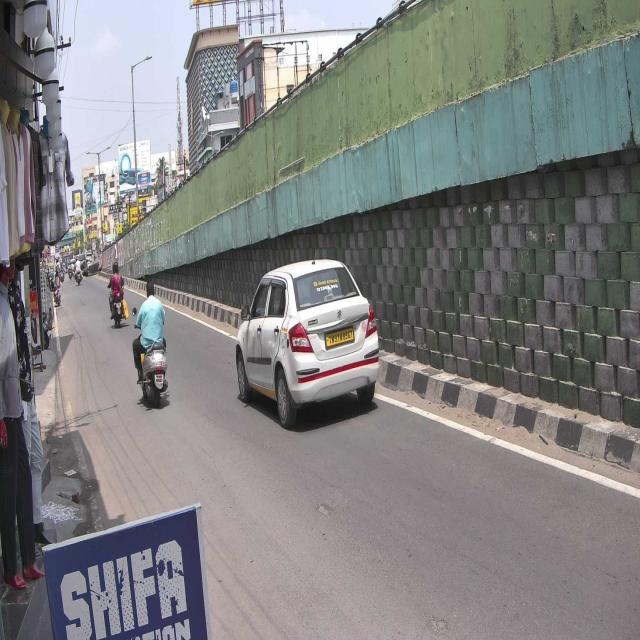single_rider: (133, 280, 168, 408)
